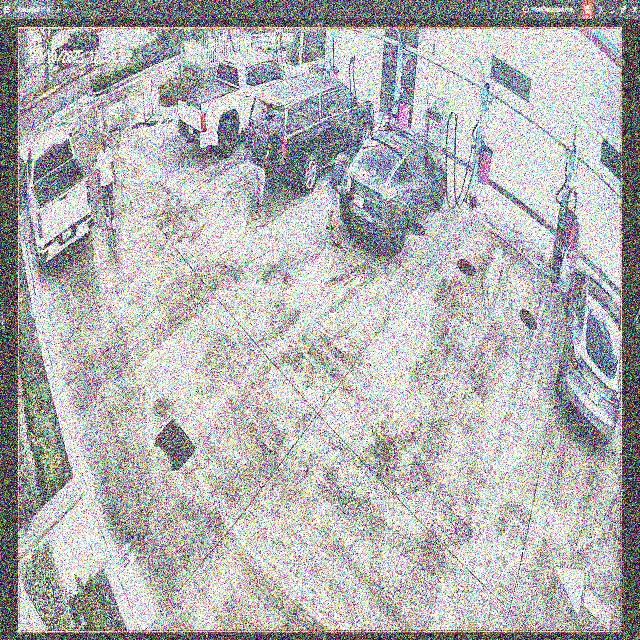Car: (338, 126, 448, 255), (248, 87, 375, 195), (177, 49, 302, 151)
